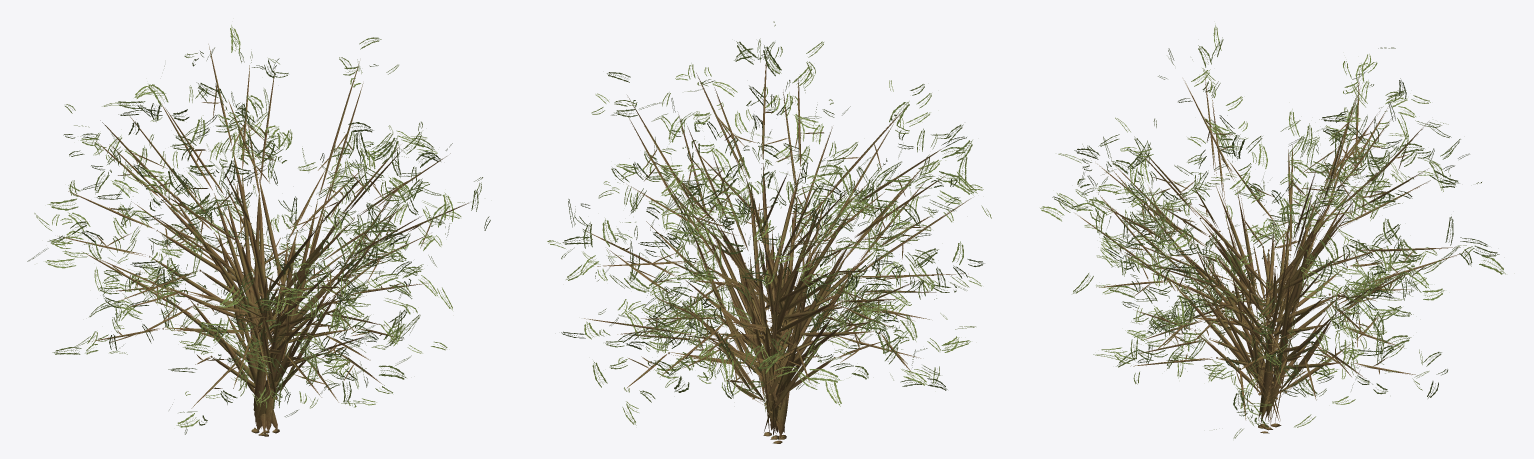
File: SHRUB_03_Willow_Scrub.glb
3 renders of one model, left to right at view 1: azimuth 30°, elevation 25°; view 2: azimuth 150°, elevation 25°; view 3: azimuth 270°, elevation 25°, orthographic. The views are drawn at different scales.
Parts seen in each view (by area): view 1: SHRUB_03_Willow_Scrub__FoliageCards, SHRUB_03_Willow_Scrub__WoodyStems; view 2: SHRUB_03_Willow_Scrub__FoliageCards, SHRUB_03_Willow_Scrub__WoodyStems; view 3: SHRUB_03_Willow_Scrub__FoliageCards, SHRUB_03_Willow_Scrub__WoodyStems.
Part boxes in pixels (x1=…): SHRUB_03_Willow_Scrub__FoliageCards: x1=27, y1=25, x2=490, y2=434; SHRUB_03_Willow_Scrub__WoodyStems: x1=61, y1=44, x2=472, y2=436; SHRUB_03_Willow_Scrub__FoliageCards: x1=547, y1=21, x2=991, y2=425; SHRUB_03_Willow_Scrub__WoodyStems: x1=584, y1=56, x2=971, y2=443; SHRUB_03_Willow_Scrub__FoliageCards: x1=1040, y1=25, x2=1505, y2=438; SHRUB_03_Willow_Scrub__WoodyStems: x1=1075, y1=69, x2=1466, y2=433.
Bounding box in the file's own units: 2.18 × 1.82 × 2.31.
Materials: 1 (1 with a texture image).
